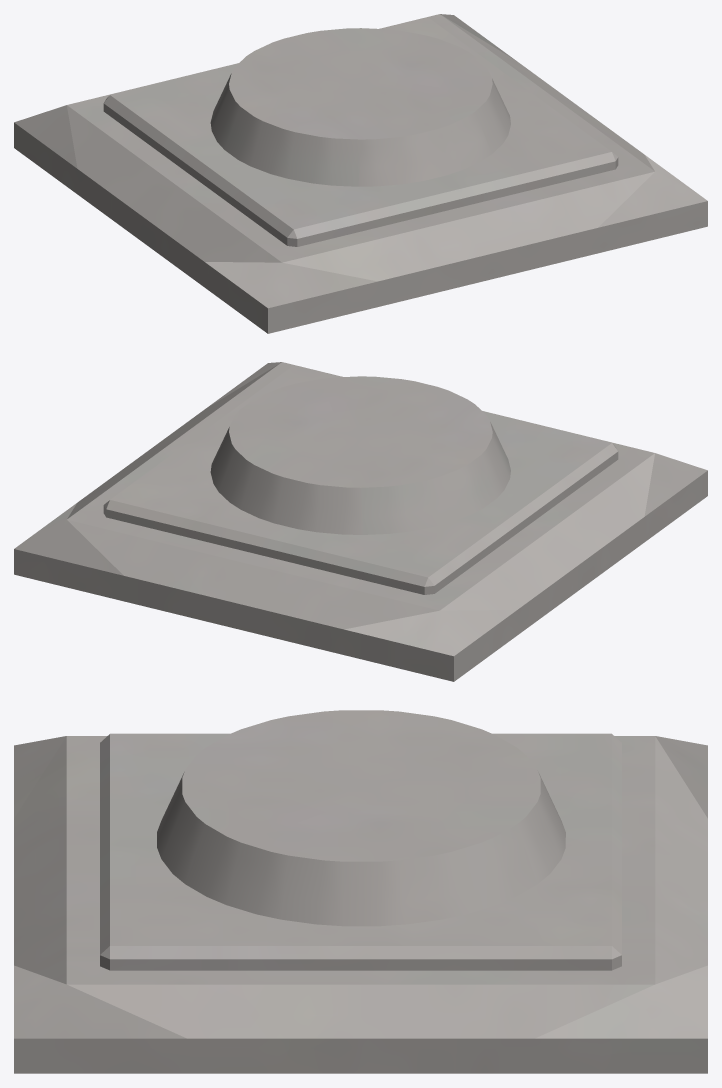
File: kontakt_pojedynczy_obrotowy.fbx
The picture shows the model from 3 angles, top to bottom: view 1: azimuth 30°, elevation 25°; view 2: azimuth 150°, elevation 25°; view 3: azimuth 270°, elevation 25°; orthographic projection. The views are drawn at different scales.
Parts seen in each view (by area): view 1: sama_sala:pCube11; view 2: sama_sala:pCube11; view 3: sama_sala:pCube11.
Boxes of the visible parts, bbox=[...] form: sama_sala:pCube11: bbox=[14, 14, 707, 333]; sama_sala:pCube11: bbox=[14, 362, 707, 681]; sama_sala:pCube11: bbox=[14, 710, 707, 1073].
Size of the model in its own units: 100 by 22.44 by 100.
